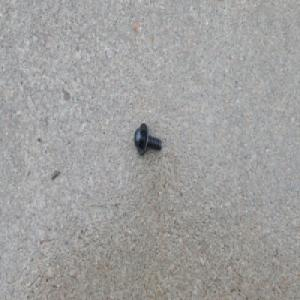BoltWasher: (133, 122, 161, 157)
